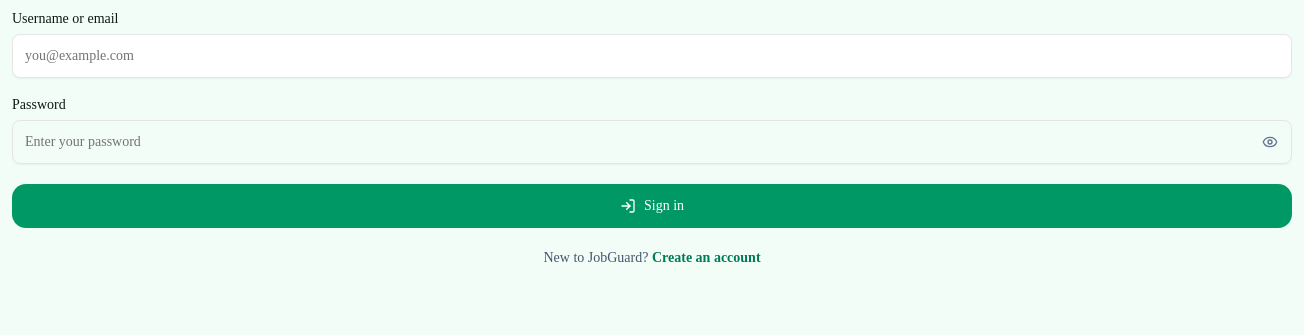
Test case: LoginForm › shows validation messages for incomplete credentials
Click the button "Sign in" at (652, 206), box [12, 184, 1292, 228]
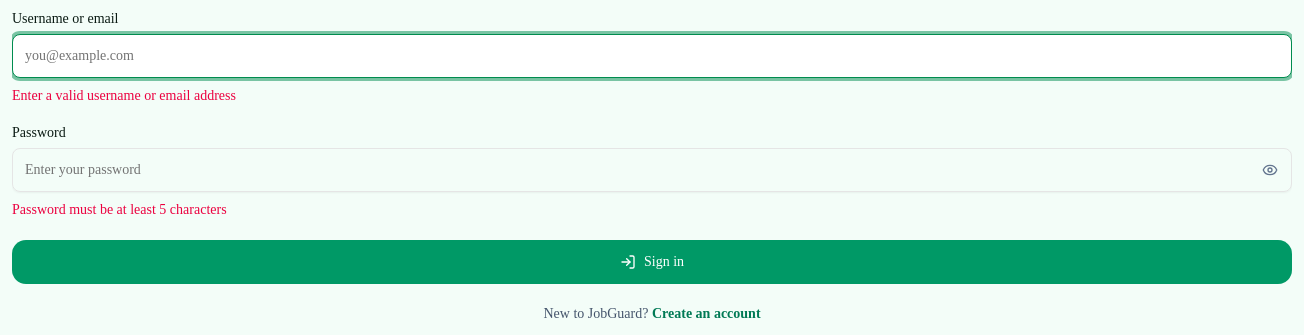
Now the text "Enter a valid username or email address" is shown, box [12, 88, 236, 103]
Now the text "Password must be at least 5 characters" is shown, box [12, 202, 227, 217]
